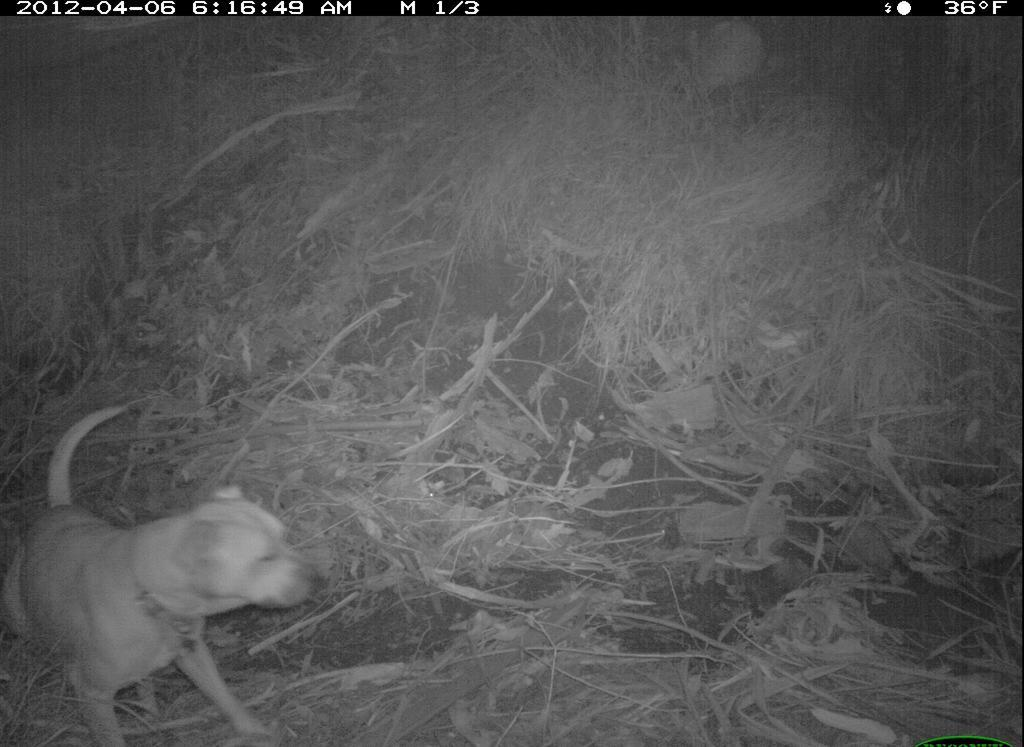dog: (7, 374, 347, 747)
